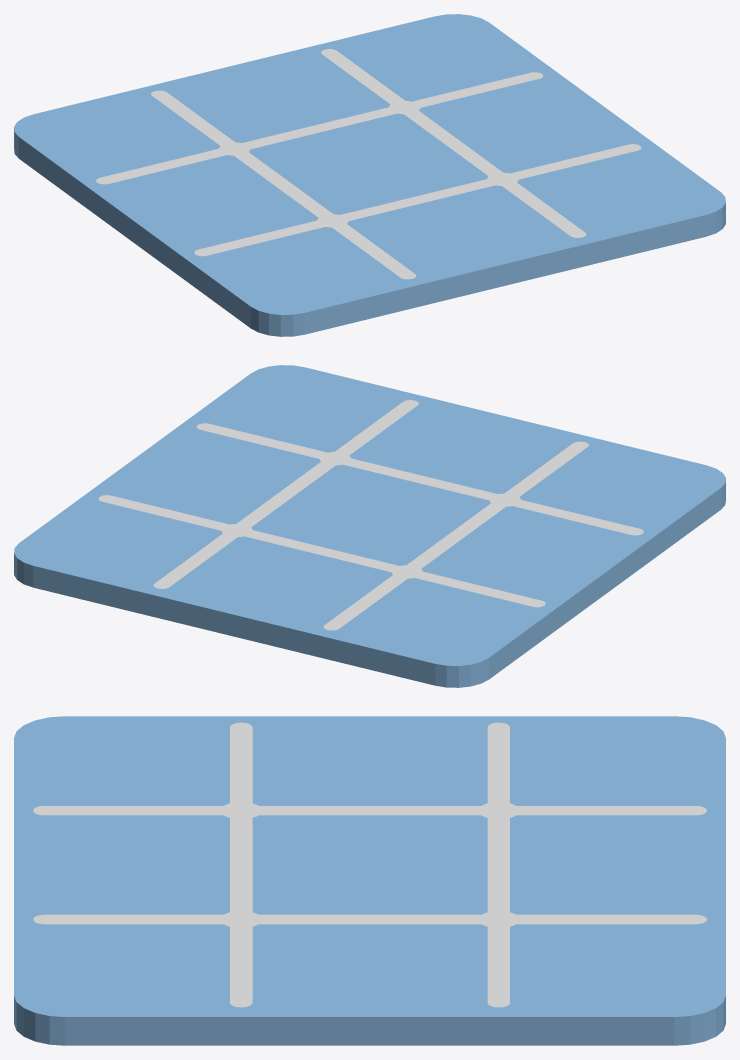
File: board.glb
The picture shows the model from 3 angles, top to bottom: view 1: azimuth 30°, elevation 25°; view 2: azimuth 150°, elevation 25°; view 3: azimuth 270°, elevation 25°; orthographic projection. The views are drawn at different scales.
Visible parts, largest first — view 1: Cube_0, Curve.001_8; view 2: Cube_0, Curve.001_8; view 3: Cube_0, Curve.001_8.
Part boxes in pixels (box(x1,y1,x2,y2)): Cube_0: box(14, 14, 725, 336); Curve.001_8: box(96, 49, 641, 279); Cube_0: box(14, 365, 725, 687); Curve.001_8: box(98, 400, 643, 630); Cube_0: box(14, 716, 725, 1045); Curve.001_8: box(33, 722, 706, 1007).
Bounding box in the file's own units: 1.37 × 0.0627 × 1.37.
